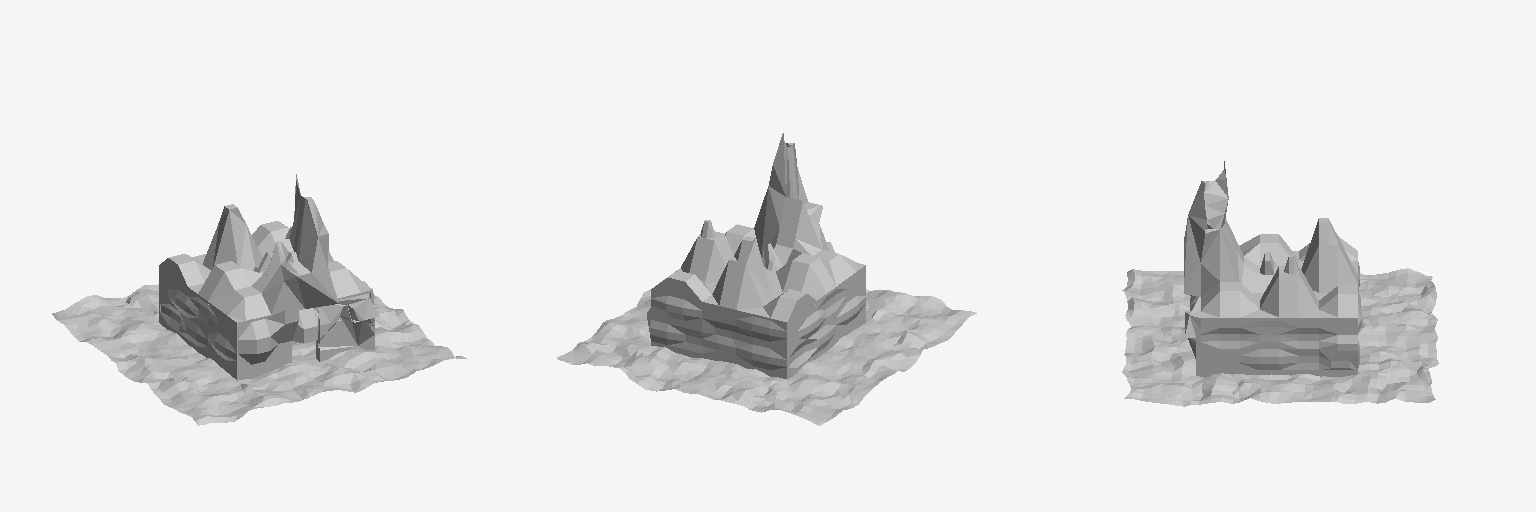
File: churchlike2.obj
3 renders of one model, left to right at view 1: azimuth 30°, elevation 25°; view 2: azimuth 150°, elevation 25°; view 3: azimuth 270°, elevation 25°, orthographic.
Size of the model in its own units: 20.05 by 14.21 by 20.34.